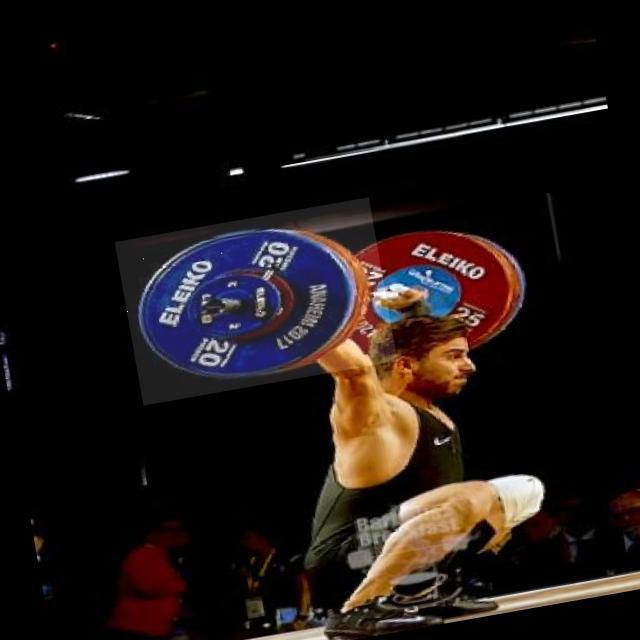barbell: (115, 198, 398, 406)
